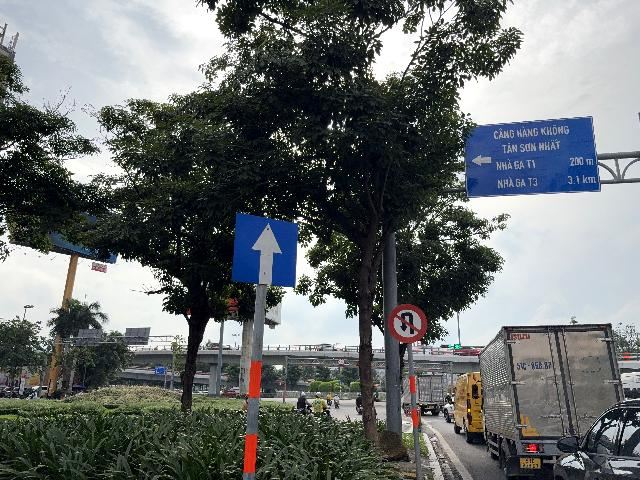cam-quay-dau-xe: (388, 304, 427, 343)
duong-mot-chieu: (231, 212, 298, 288)
